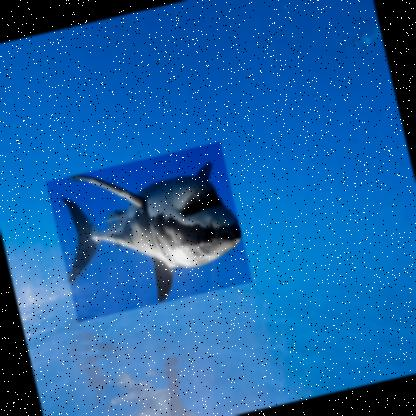white-shark: (43, 140, 251, 322)
